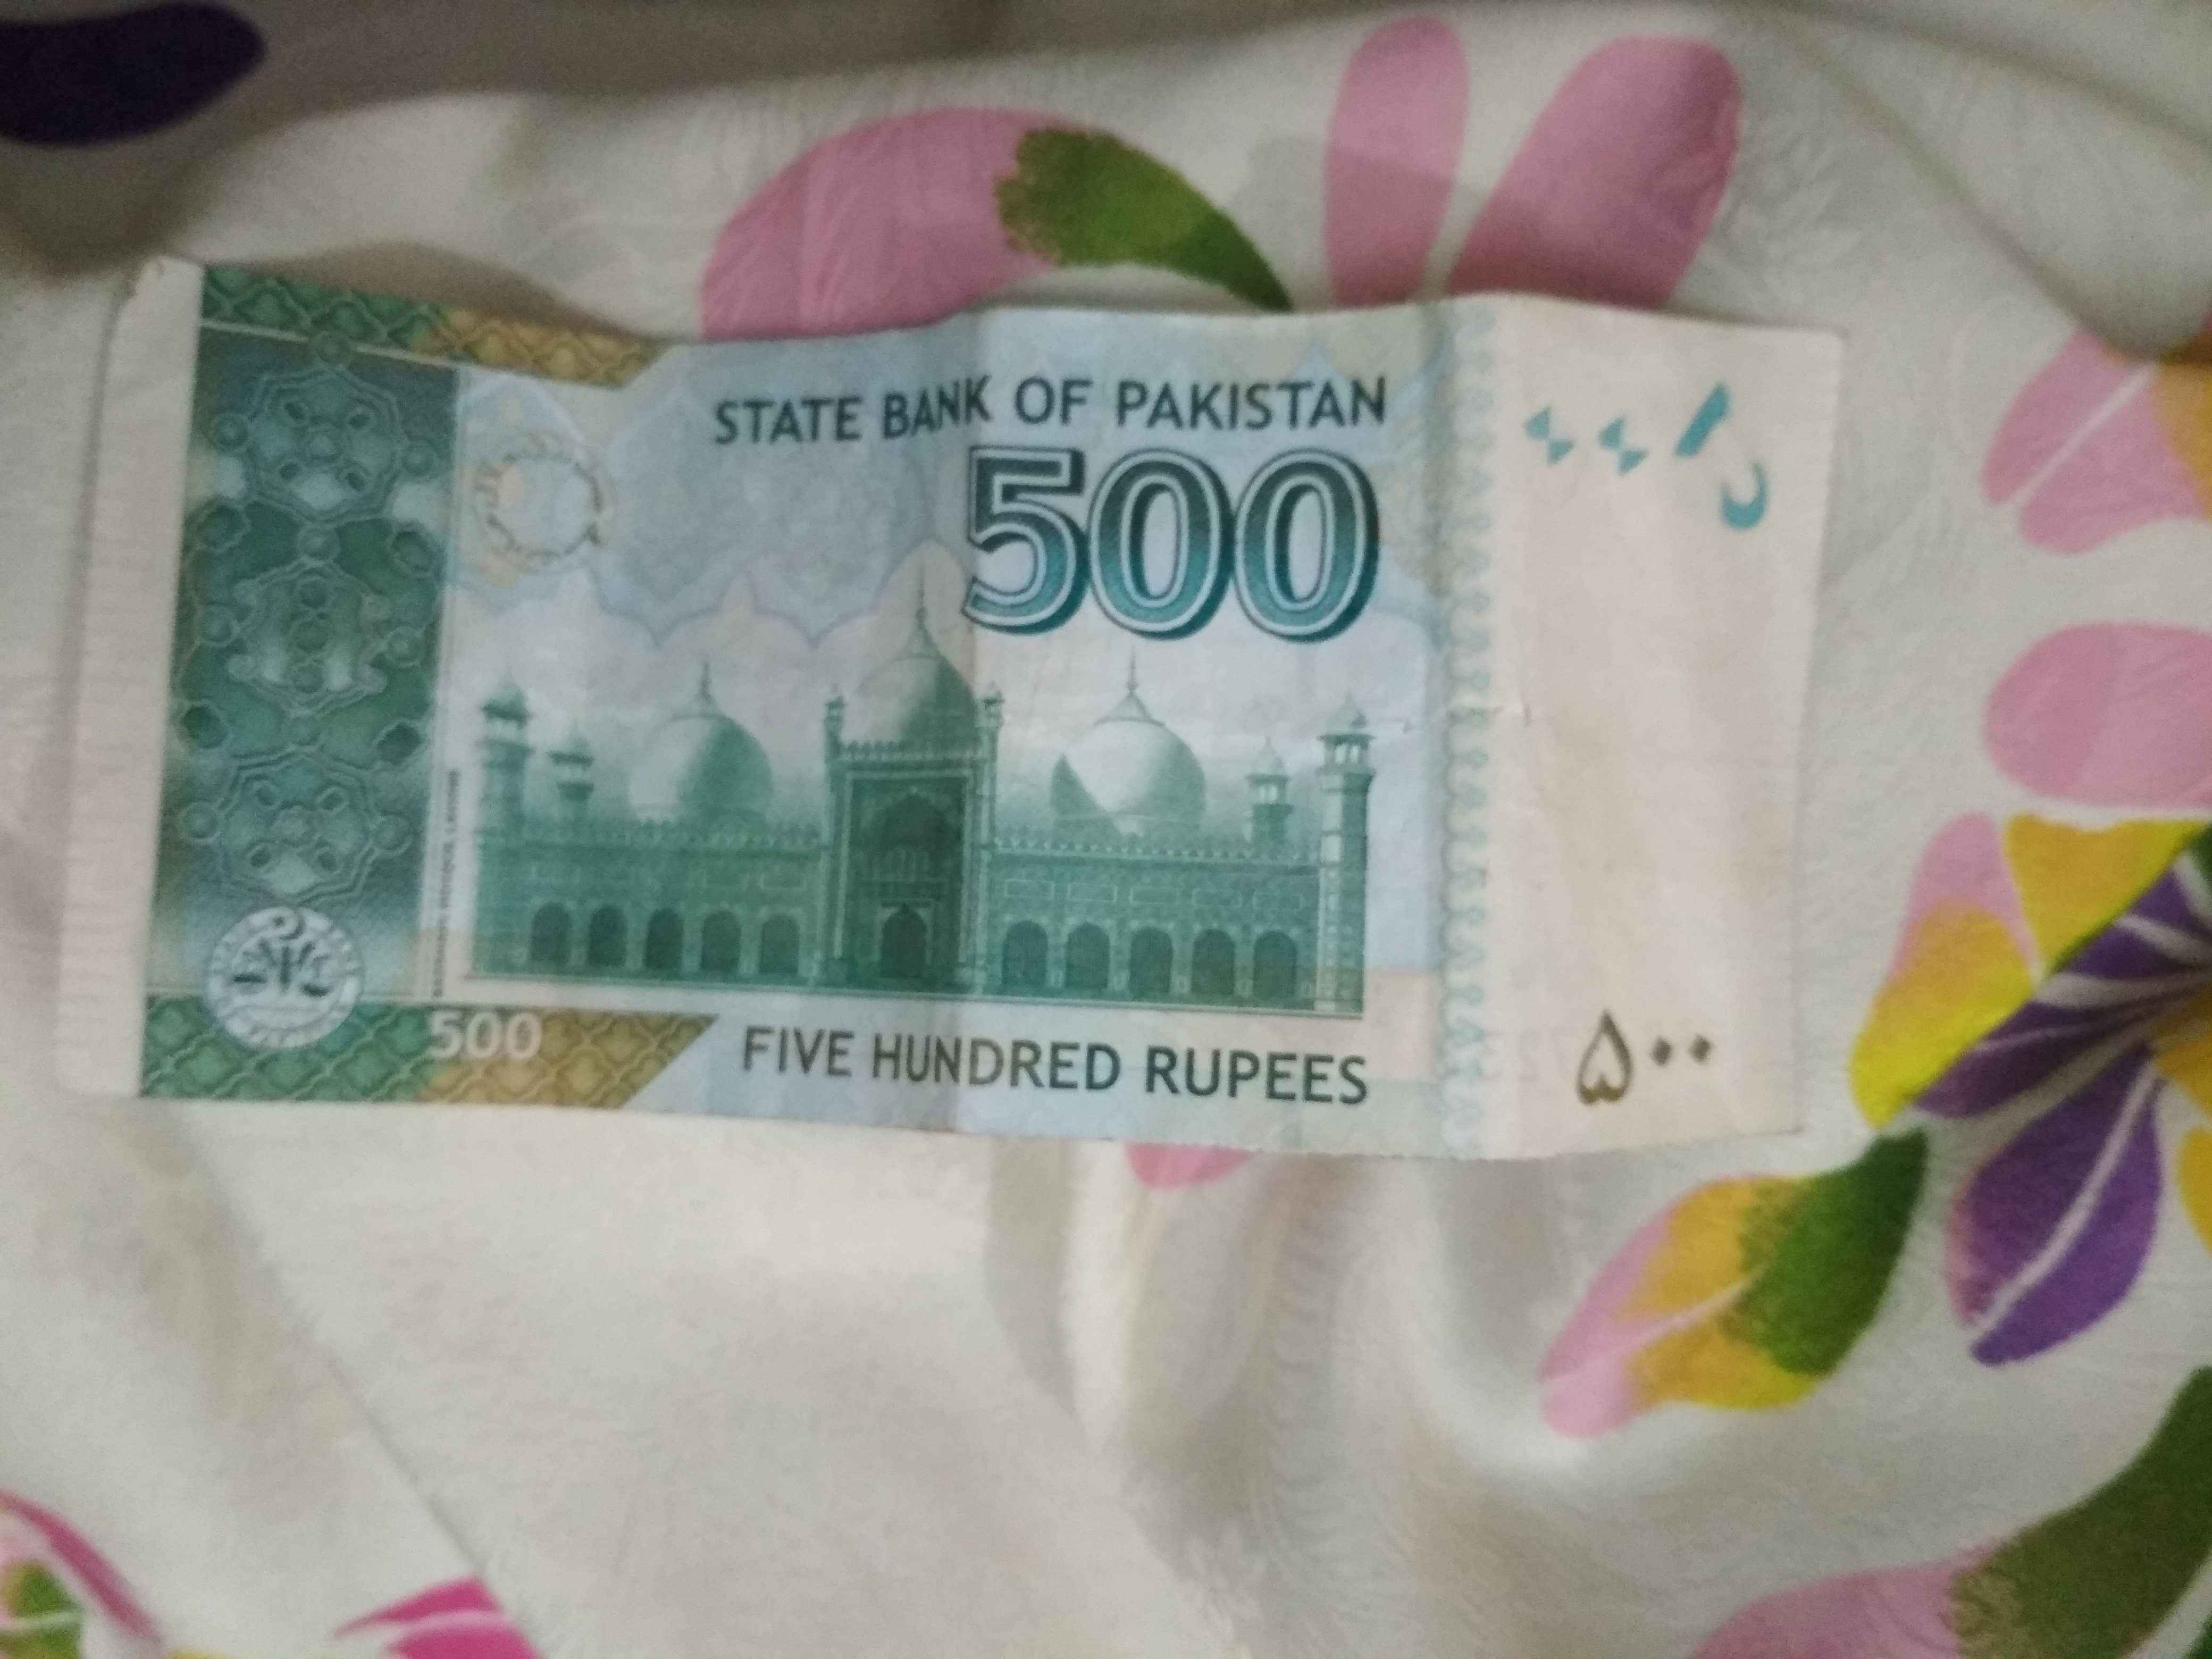500 rupee: (82, 234, 1832, 1225)
